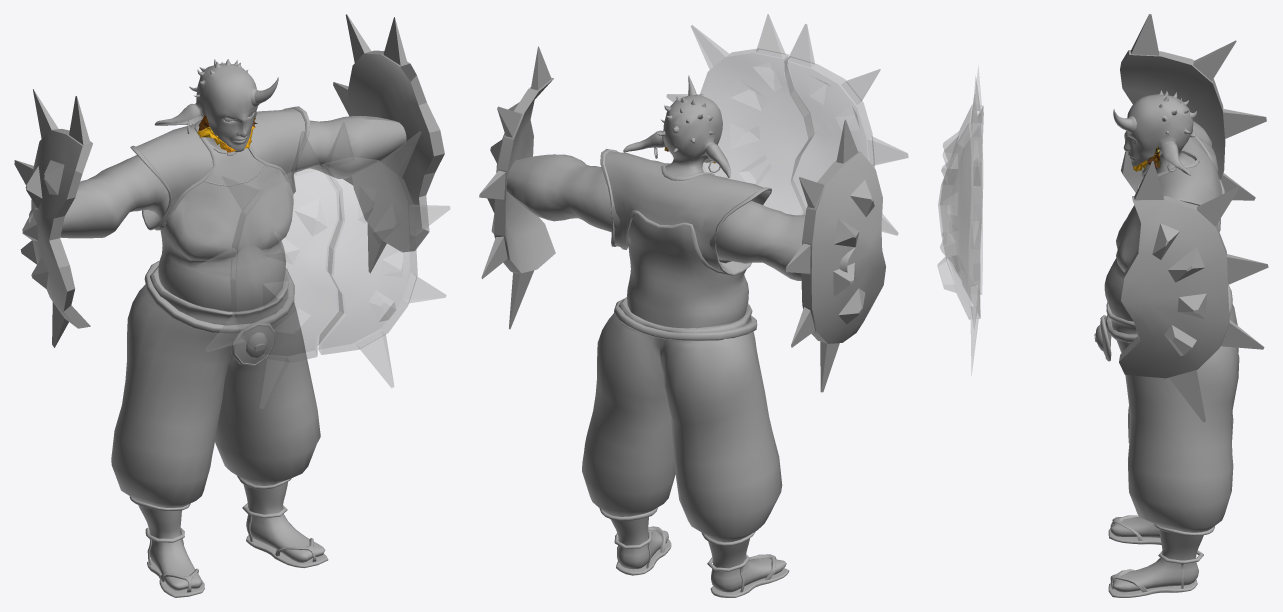
Rendered from Moonset_FBX_EnnemyBully_03.fbx.
3 renders of one model, left to right at view 1: azimuth 30°, elevation 25°; view 2: azimuth 150°, elevation 25°; view 3: azimuth 270°, elevation 25°, orthographic. The views are drawn at different scales.
Visible parts, largest first — view 1: Model_EnnemyBully_Modifications_pants, upperbody, pCylinder4, pCylinder3, pCylinder5, pCylinder2, epaulieres, Model_EnnemyBully_Modifications_legs1, belt, medal; view 2: Model_EnnemyBully_Modifications_pants, upperbody, pCylinder2, pCylinder3, epaulieres, pCylinder4, pCylinder5, Model_EnnemyBully_Modifications_legs1, belt; view 3: pCylinder5, Model_EnnemyBully_Modifications_pants, pCylinder2, pCylinder3, upperbody, pCylinder4, Model_EnnemyBully_Modifications_legs1, epaulieres, medal.
Part boxes in pixels (<box>): Model_EnnemyBully_Modifications_pants: <box>111,265,320,511</box>; upperbody: <box>29,59,406,311</box>; pCylinder4: <box>195,131,343,408</box>; pCylinder3: <box>318,122,449,387</box>; pCylinder5: <box>333,14,444,273</box>; pCylinder2: <box>14,89,92,347</box>; epaulieres: <box>130,106,310,230</box>; Model_EnnemyBully_Modifications_legs1: <box>138,482,328,597</box>; belt: <box>144,260,294,333</box>; medal: <box>231,322,275,365</box>; Model_EnnemyBully_Modifications_pants: <box>582,297,782,545</box>; upperbody: <box>506,75,855,328</box>; pCylinder2: <box>785,119,885,392</box>; pCylinder3: <box>666,14,814,214</box>; epaulieres: <box>600,148,771,275</box>; pCylinder4: <box>784,24,908,235</box>; pCylinder5: <box>479,46,555,329</box>; Model_EnnemyBully_Modifications_legs1: <box>610,517,789,597</box>; belt: <box>613,298,757,340</box>; pCylinder5: <box>1119,161,1268,422</box>; Model_EnnemyBully_Modifications_pants: <box>1106,302,1239,535</box>; pCylinder2: <box>1120,14,1266,200</box>; pCylinder3: <box>937,95,982,375</box>; upperbody: <box>1104,90,1218,321</box>; pCylinder4: <box>940,66,983,294</box>; Model_EnnemyBully_Modifications_legs1: <box>1108,515,1203,597</box>; epaulieres: <box>1137,131,1224,231</box>; medal: <box>1094,315,1111,361</box>.
Size of the model in its own units: 4.42 by 5.54 by 3.48.
